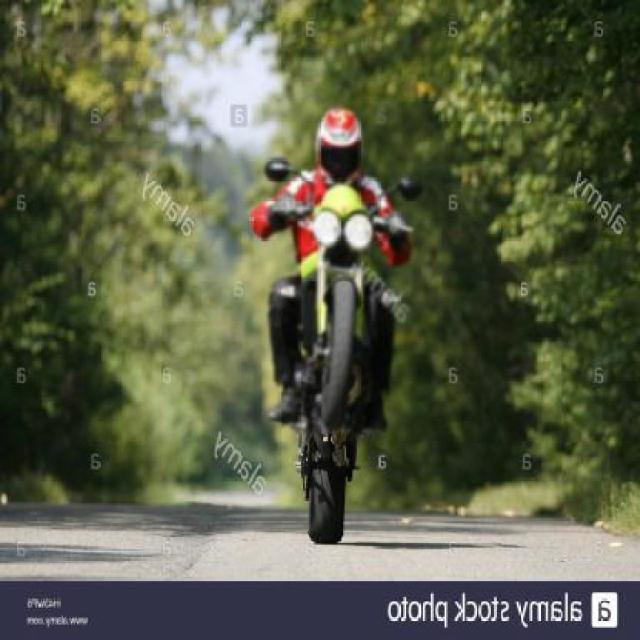helmet: (299, 107, 377, 187)
motorcycle: (230, 106, 434, 564)
